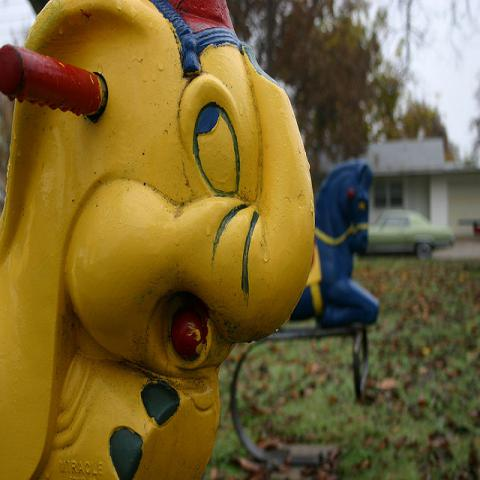car: (367, 210, 456, 263)
